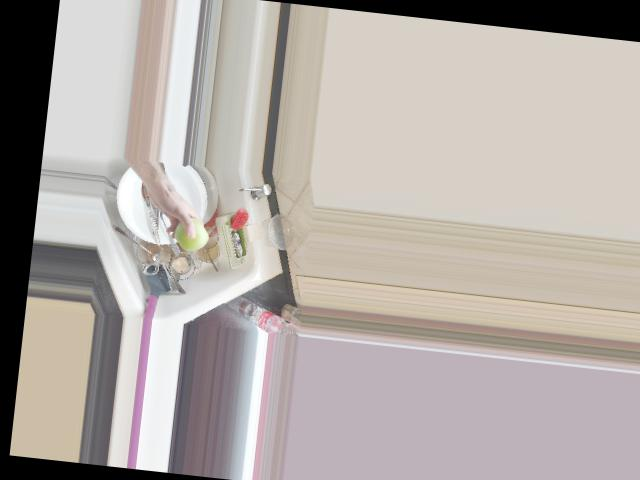apple: (170, 212, 211, 253)
